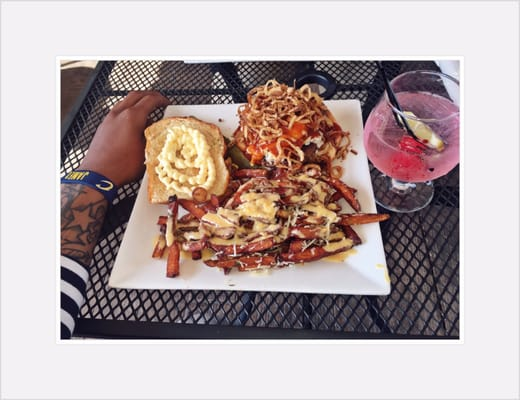soup: (143, 115, 229, 206)
sushi: (364, 64, 461, 213)
